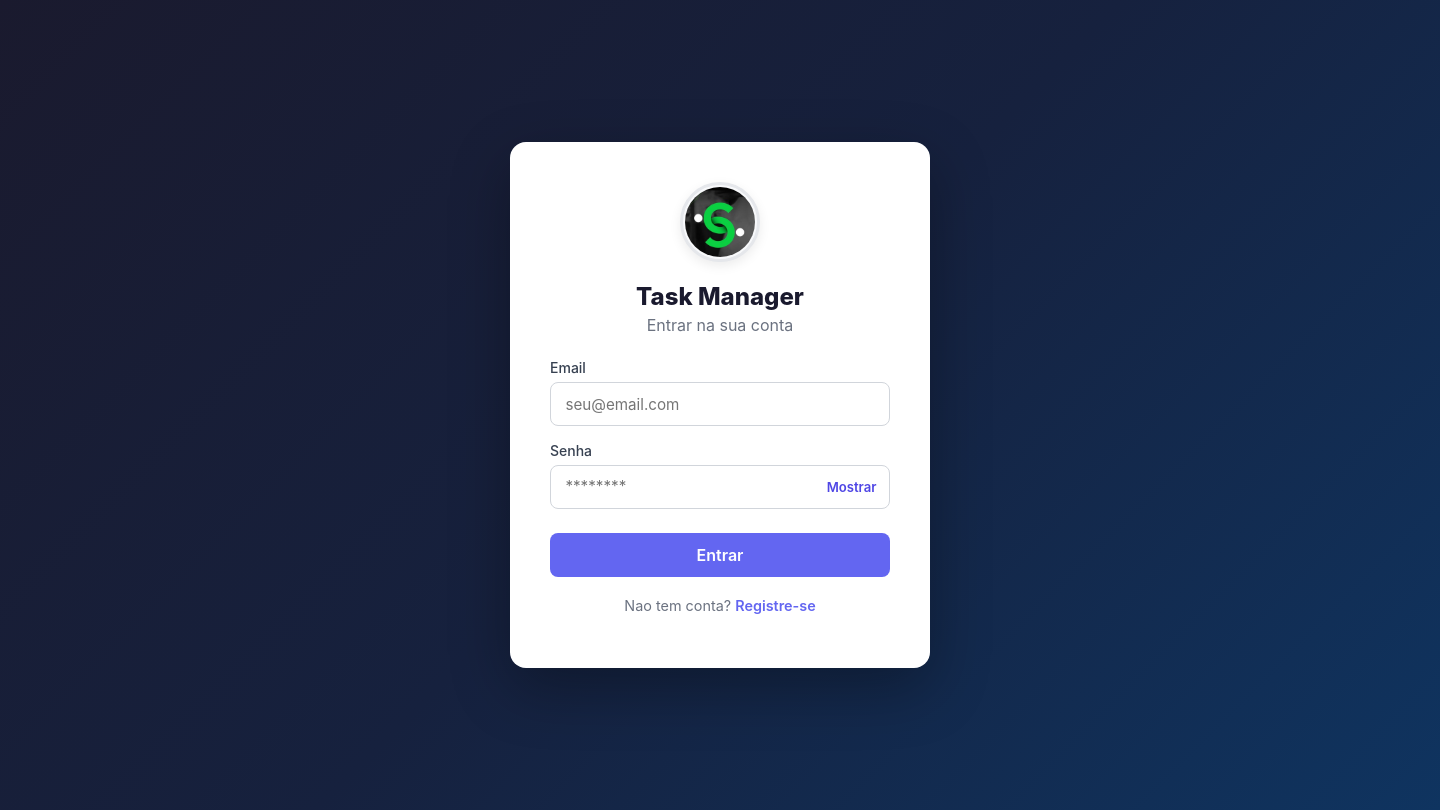
Test case: Fluxo de Autenticação (integração) › Página de Login › desabilita o botão e exibe "Entrando..." durante o envio do formulário
The image size is (1440, 810).
Type "test@example.com" into the field with placeholder "seu@email.com" at [720, 404], box [550,382,890,426]
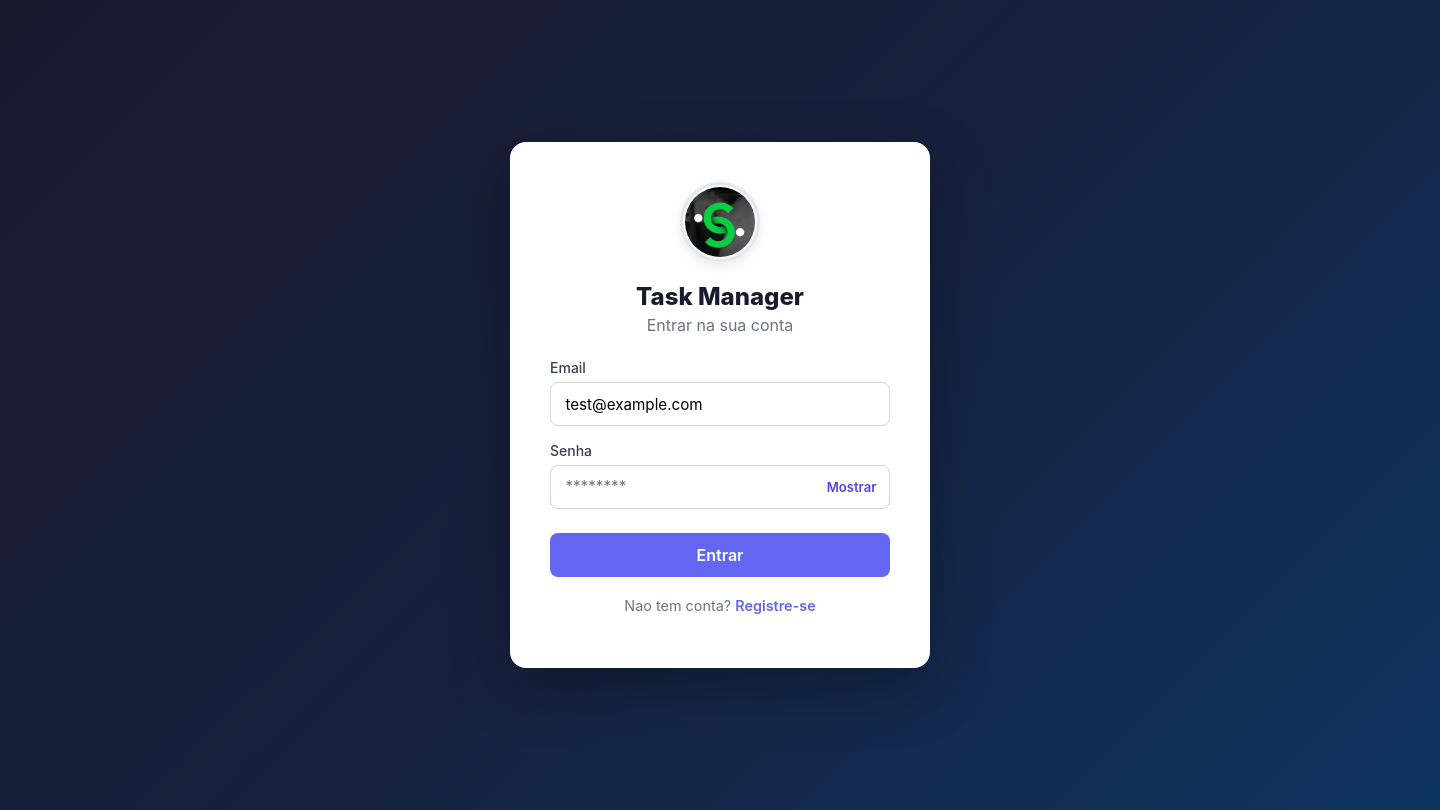
Type "senha123" into the password field with placeholder "********" at [720, 487], box [550,465,890,509]
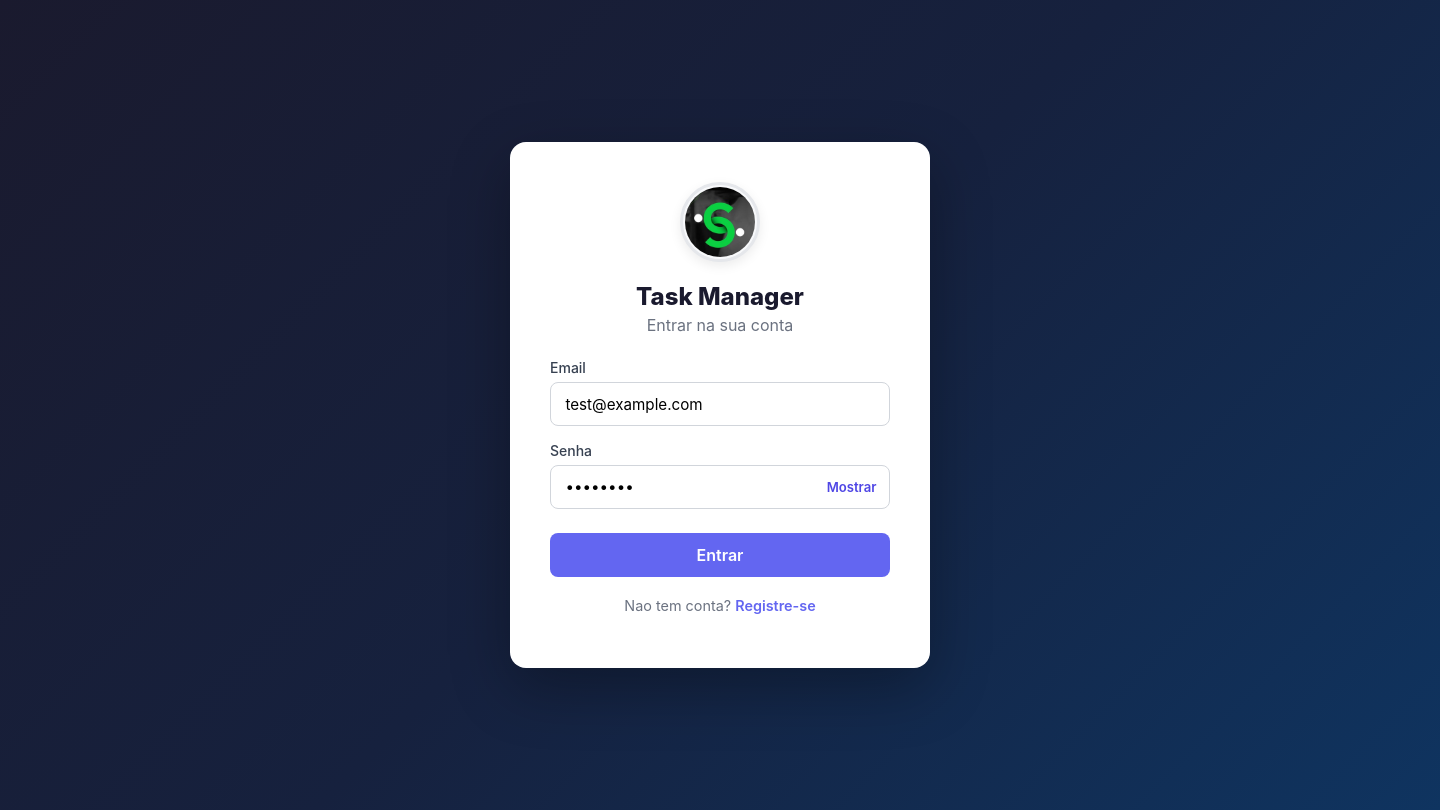
Click the button "Entrar" at [720, 555], box [550,533,890,577]
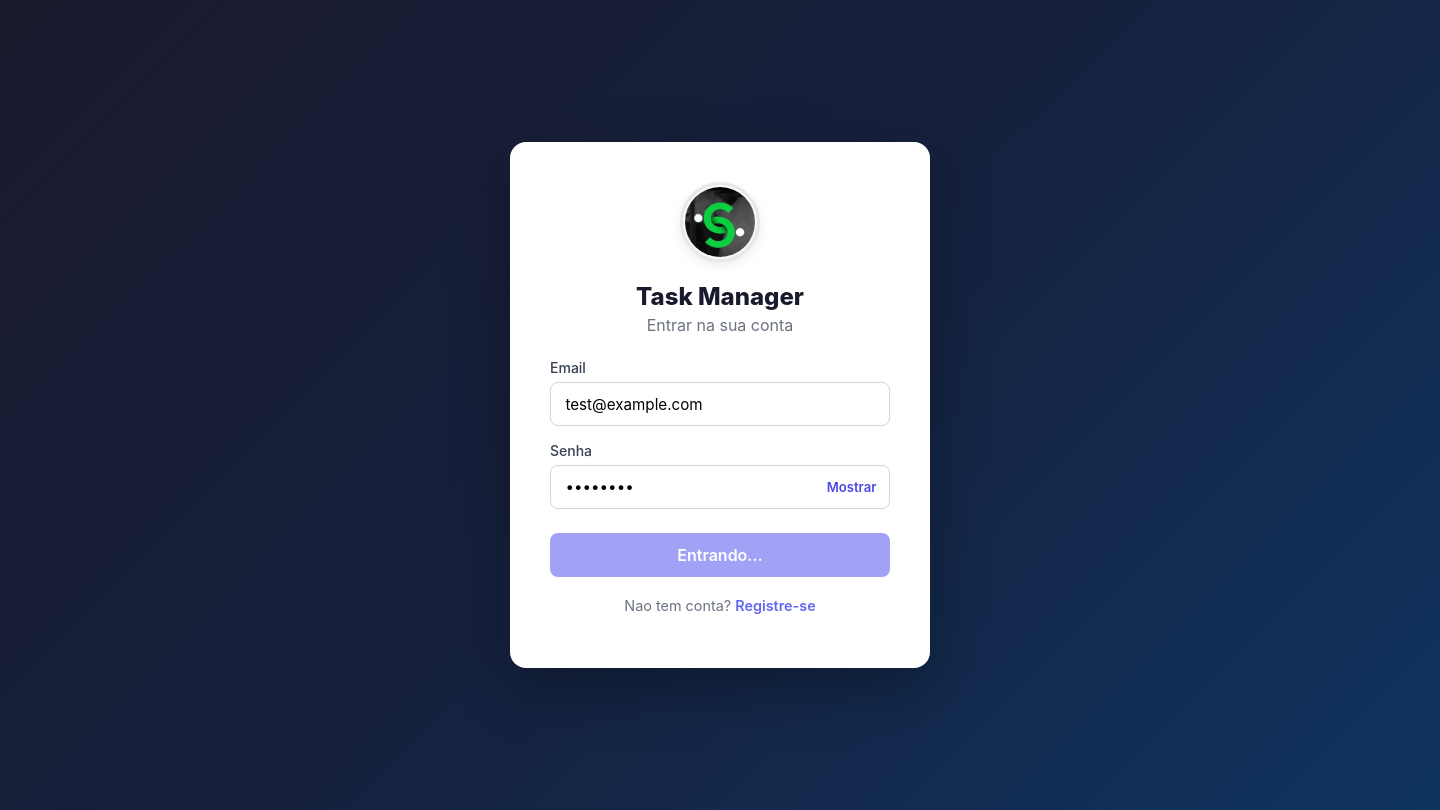
Now the button "Entrando..." is disabled, box [550,533,890,577]
